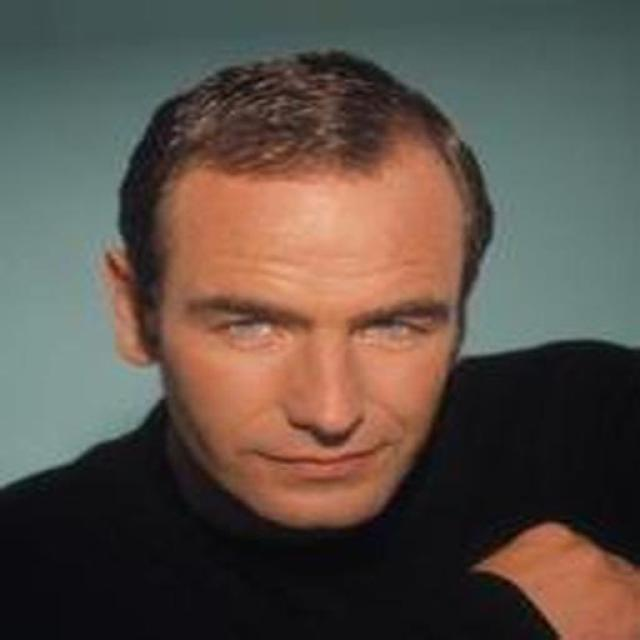bareface: (120, 90, 492, 529)
